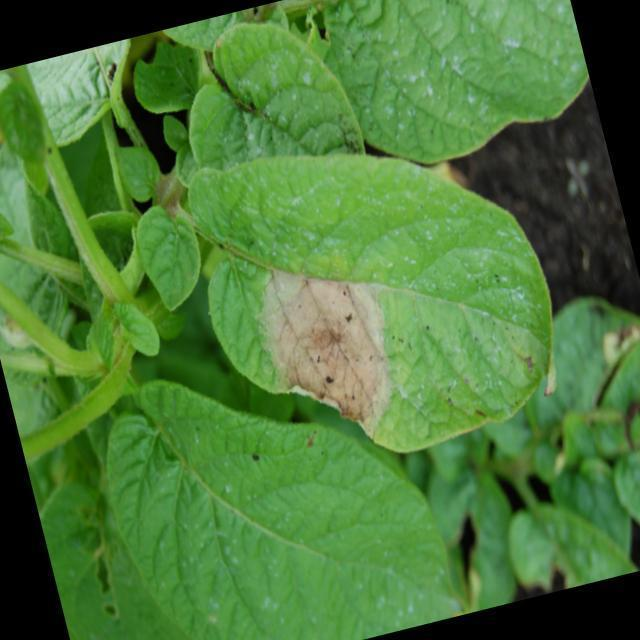Healthy Leaf: (125, 192, 212, 312), (79, 292, 163, 372), (110, 138, 166, 202)
